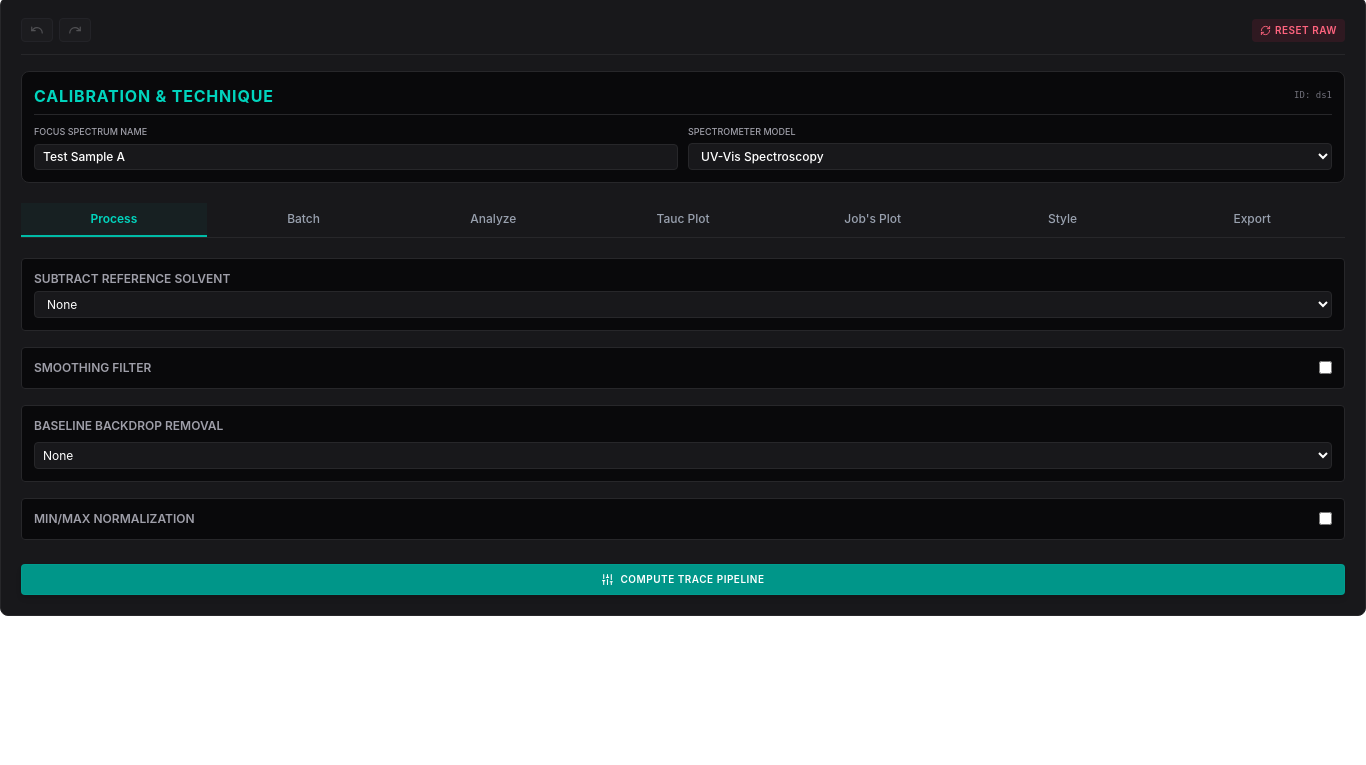
Test case: SpectrumInspector — Provenance / Session Log Export › opens the modal and shows a data-integrity checksum for the dataset
Click the button "export".
click(1252, 220)  # box [1159,202,1345,236]
(page scrolled)
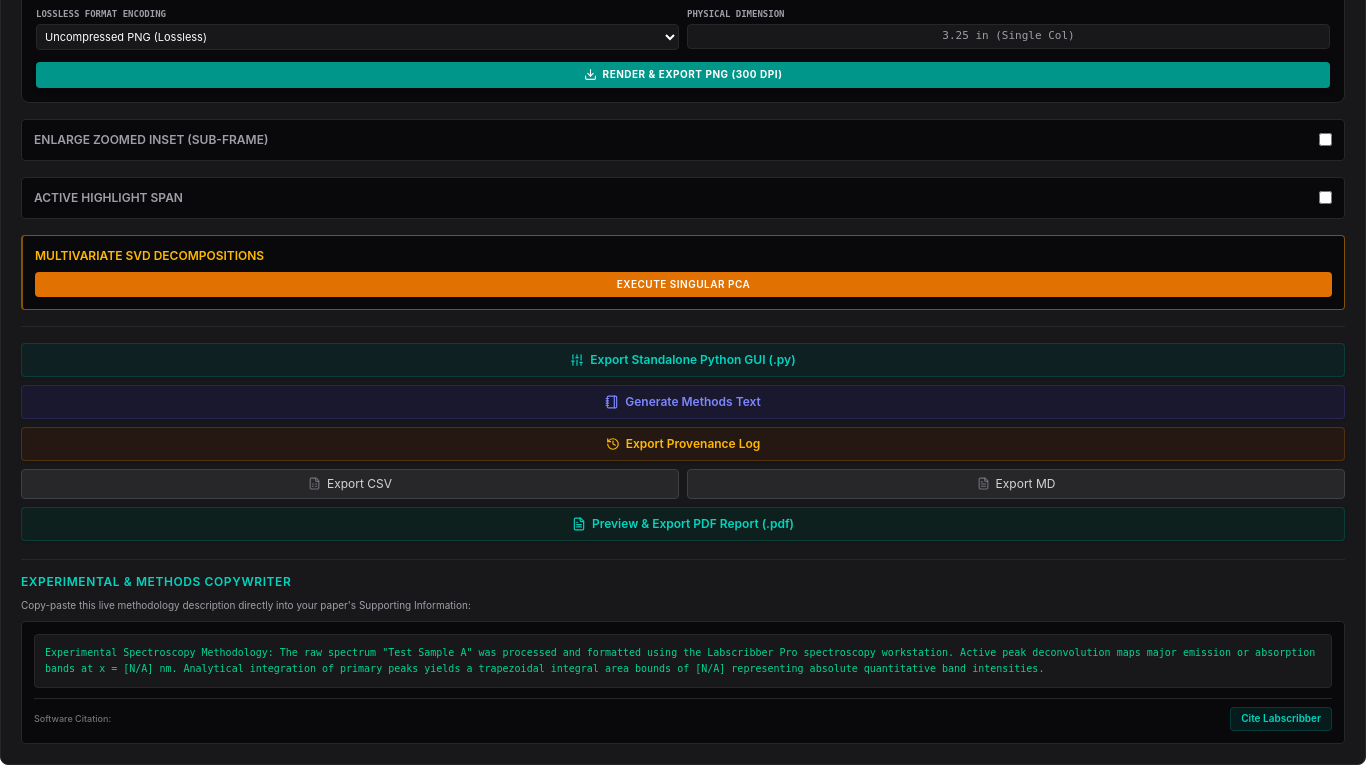
Click the button "Export Provenance Log".
click(683, 444)  # box [21,427,1345,461]
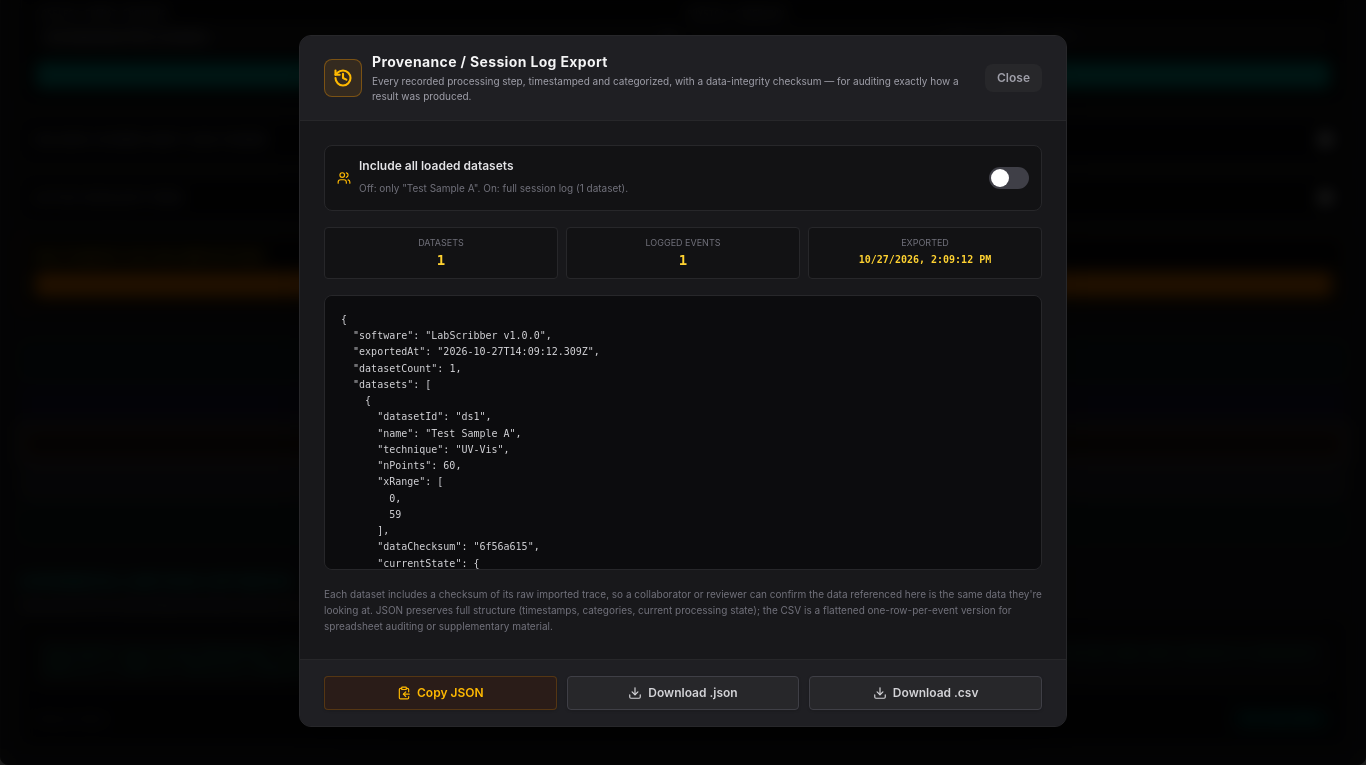
Expected: the text "Test Sample A" is shown, [45,647,1315,674]
Expected: the heading "Provenance / Session Log Export" is shown, [372,53,608,70]
Expected: the text "LabScribber" is shown, [341,314,714,659]
